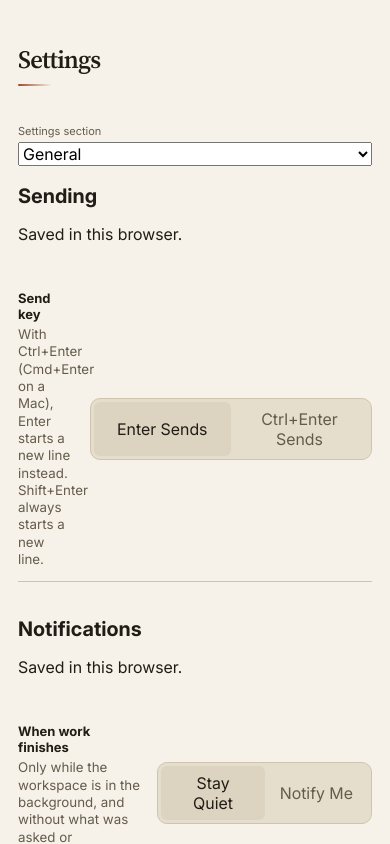
the picker and the rail are the same choice
Select "About & support" in the dropdown labelled "Settings section": (195, 154) [18,142,372,166]
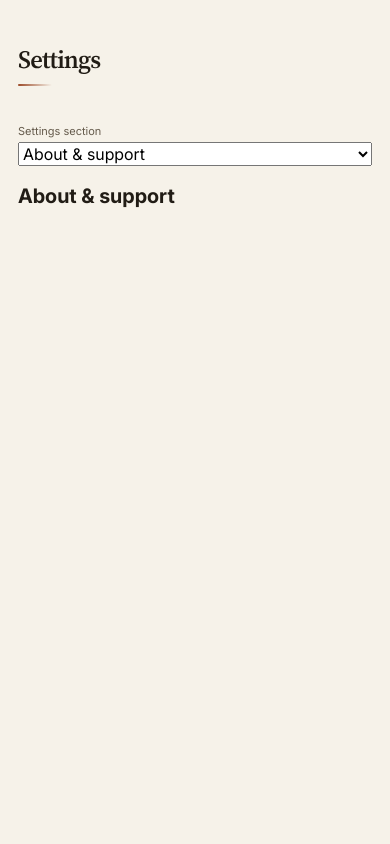
Result: the heading "About & support" is shown at [18,184,175,208]
